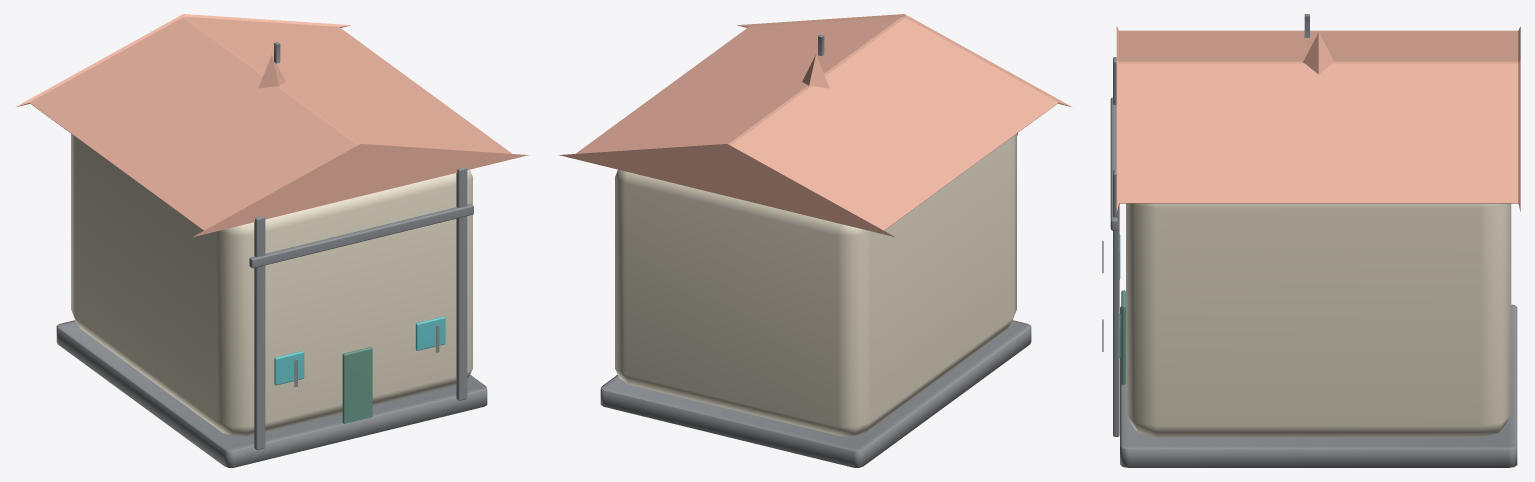
Rendered from chapel.glb.
The picture shows the model from 3 angles, left to right: view 1: azimuth 30°, elevation 25°; view 2: azimuth 150°, elevation 25°; view 3: azimuth 270°, elevation 25°; orthographic projection. The views are drawn at different scales.
Parts seen in each view (by area): view 1: chapel_root; view 2: chapel_root; view 3: chapel_root.
Part boxes in pixels (x1,y1,x2,y2): chapel_root: (15,14,528,467); chapel_root: (559,14,1072,467); chapel_root: (1102,14,1520,467).
Bounding box in the file's own units: 5.29 × 5 × 4.98.
